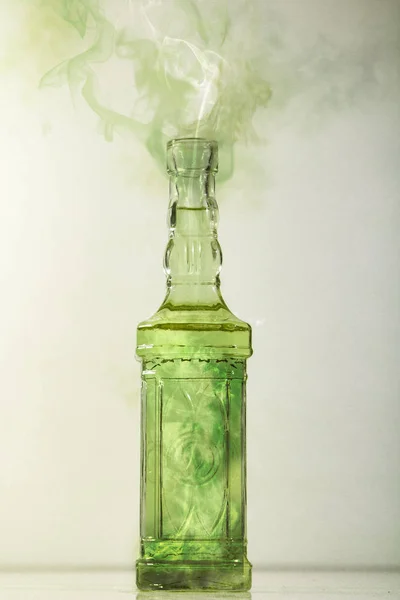glass_bottle: (119, 125, 269, 599)
